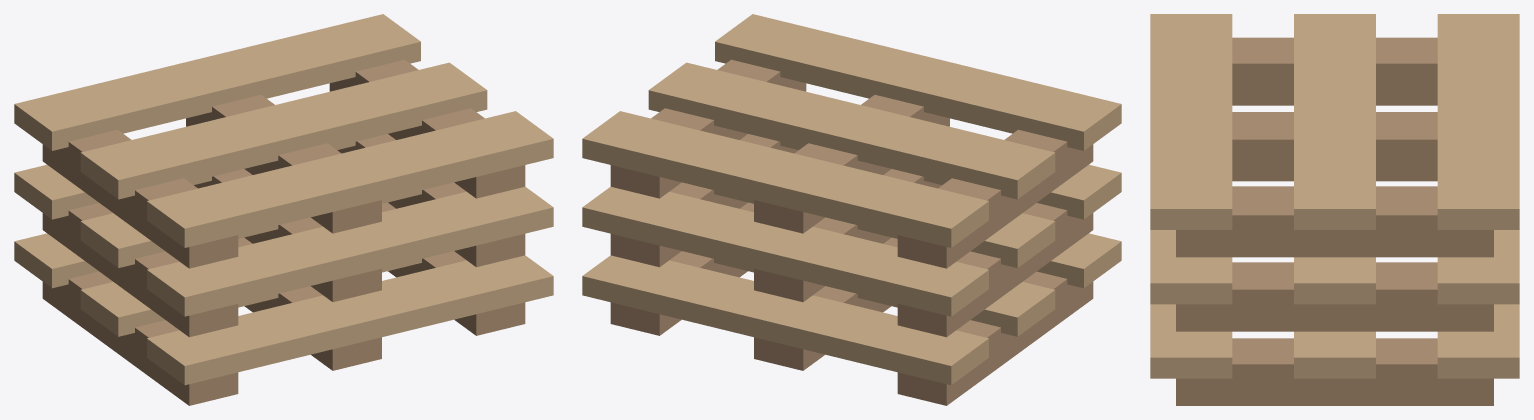
File: pallet_stack_01.glb
The picture shows the model from 3 angles, left to right: view 1: azimuth 30°, elevation 25°; view 2: azimuth 150°, elevation 25°; view 3: azimuth 270°, elevation 25°; orthographic projection. The views are drawn at different scales.
Visible parts, largest first — view 1: slat2_2, slat2_1, slat2_0, slat1_2, slat0_2, block2_-0.35, block0_-0.35, block1_-0.35, block2_0.35, block2_0, slat0_1, slat1_1 (+6 smaller); view 2: slat2_0, slat2_1, slat2_2, slat1_0, slat0_0, block2_-0.35, block0_-0.35, block1_-0.35, block2_0.35, block2_0, slat0_1, slat1_1 (+6 smaller); view 3: slat2_0, slat2_2, slat2_1, block1_0.35, block2_0.35, block0_0.35, block2_-0.35, block2_0, slat0_0, slat0_2, slat1_0, slat1_2 (+2 smaller).
Boxes of the visible parts, x1,y1,x2,y2 form: slat2_2: [147, 111, 553, 247]; slat2_1: [80, 62, 487, 199]; slat2_0: [14, 14, 420, 150]; slat1_2: [147, 186, 553, 316]; slat0_2: [147, 255, 553, 385]; block2_-0.35: [42, 129, 238, 268]; block0_-0.35: [42, 271, 238, 405]; block1_-0.35: [42, 203, 238, 337]; block2_0.35: [329, 59, 525, 198]; block2_0: [186, 95, 381, 233]; slat0_1: [80, 259, 421, 336]; slat1_1: [80, 190, 421, 267]; slat2_0: [582, 111, 988, 247]; slat2_1: [648, 62, 1055, 199]; slat2_2: [715, 14, 1121, 150]; slat1_0: [582, 186, 988, 316]; slat0_0: [582, 255, 988, 385]; block2_-0.35: [897, 129, 1093, 268]; block0_-0.35: [897, 271, 1093, 405]; block1_-0.35: [897, 203, 1093, 337]; block2_0.35: [610, 59, 806, 198]; block2_0: [754, 95, 949, 233]; slat0_1: [714, 259, 1055, 336]; slat1_1: [714, 190, 1055, 267]; slat2_0: [1437, 14, 1519, 229]; slat2_2: [1150, 14, 1232, 229]; slat2_1: [1294, 14, 1375, 229]; block1_0.35: [1176, 263, 1493, 331]; block2_0.35: [1176, 189, 1493, 257]; block0_0.35: [1176, 338, 1493, 405]; block2_-0.35: [1232, 37, 1437, 105]; block2_0: [1232, 113, 1437, 181]; slat0_0: [1437, 304, 1519, 378]; slat0_2: [1150, 304, 1232, 378]; slat1_0: [1437, 230, 1519, 304]; slat1_2: [1150, 230, 1232, 304].
Bounding box in the file's own units: 0.9 × 0.4425 × 0.72.
